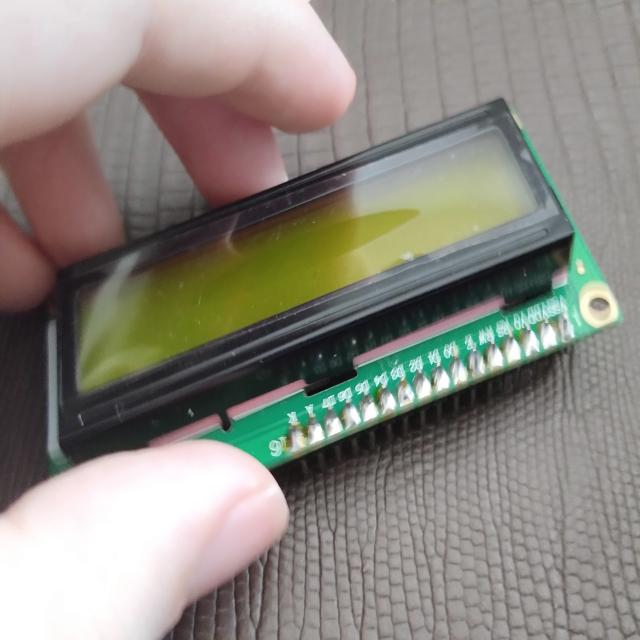lcd: (47, 95, 621, 472)
